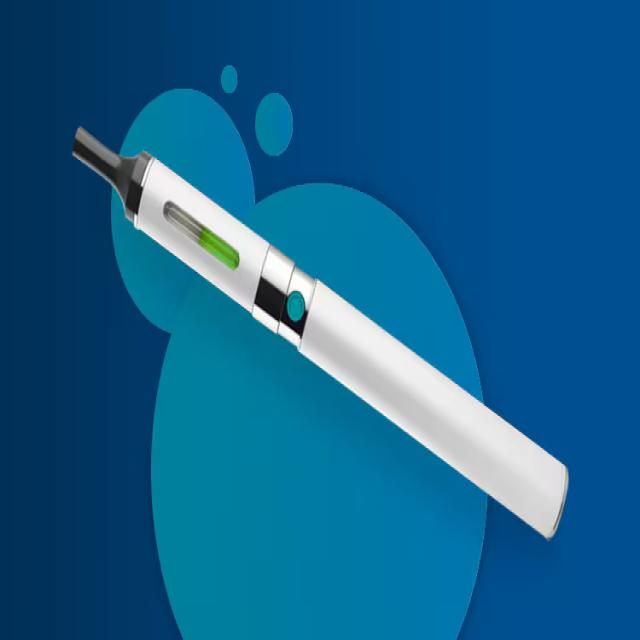Cigarette: (71, 123, 568, 538)
